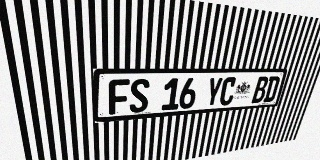1: (161, 78, 181, 110)
6: (178, 78, 198, 109)
B: (251, 76, 269, 103)
C: (218, 77, 237, 106)
D: (263, 76, 281, 102)
F: (109, 79, 130, 115)
S: (129, 79, 150, 113)
Y: (204, 77, 223, 107)
